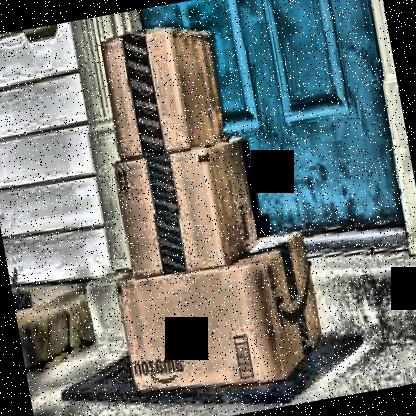no defect parcel: (83, 226, 339, 416), (92, 133, 280, 287), (91, 11, 239, 166)
